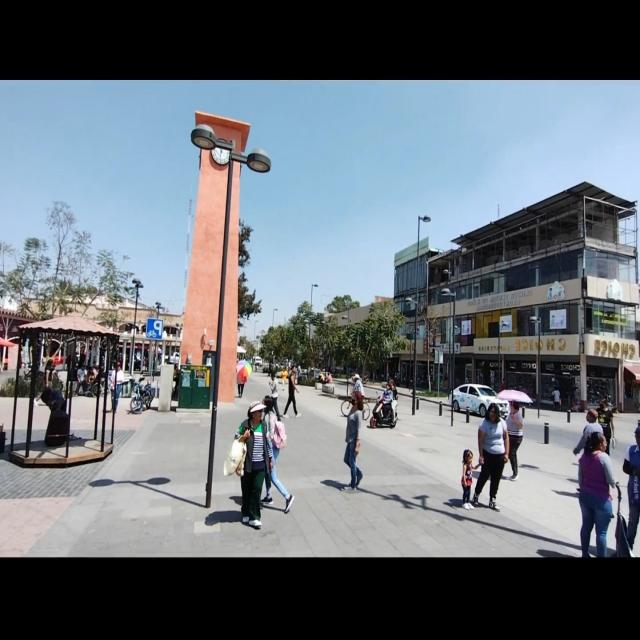adult: (577, 432, 619, 555), (234, 401, 274, 526), (471, 402, 509, 511), (260, 396, 294, 514), (623, 425, 640, 549), (344, 389, 364, 491), (501, 401, 524, 480), (574, 410, 604, 460), (462, 448, 484, 509), (283, 366, 301, 420), (376, 379, 397, 425), (598, 397, 615, 453), (34, 359, 54, 405), (109, 363, 123, 414), (269, 372, 281, 420), (350, 374, 364, 406)
